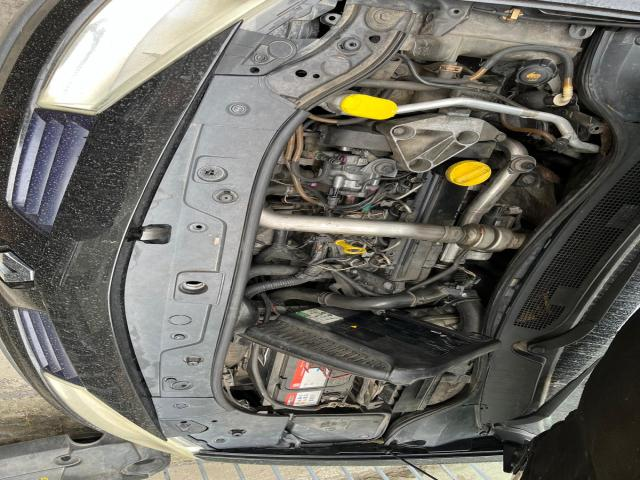accumulator: (258, 347, 355, 406), (260, 398, 272, 406), (248, 368, 252, 376), (273, 406, 278, 408)
antifreeze_tank: (408, 11, 582, 61), (502, 51, 562, 86)
fuse_box: (287, 412, 390, 443)
high_pressure_pump: (322, 155, 382, 197)
